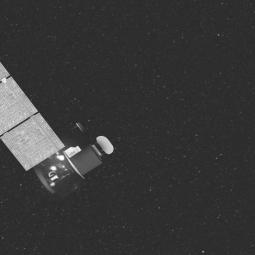earth_observation_sat_1: (0, 61, 120, 200)
